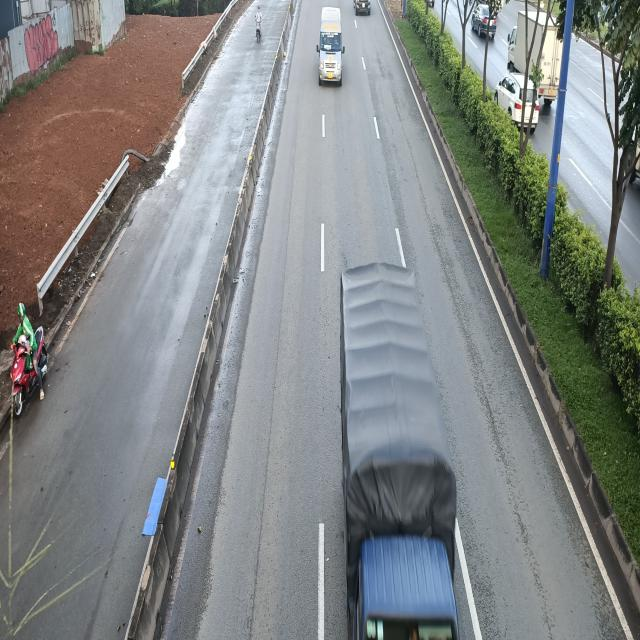truck: (338, 260, 474, 639)
van: (316, 5, 345, 87)
